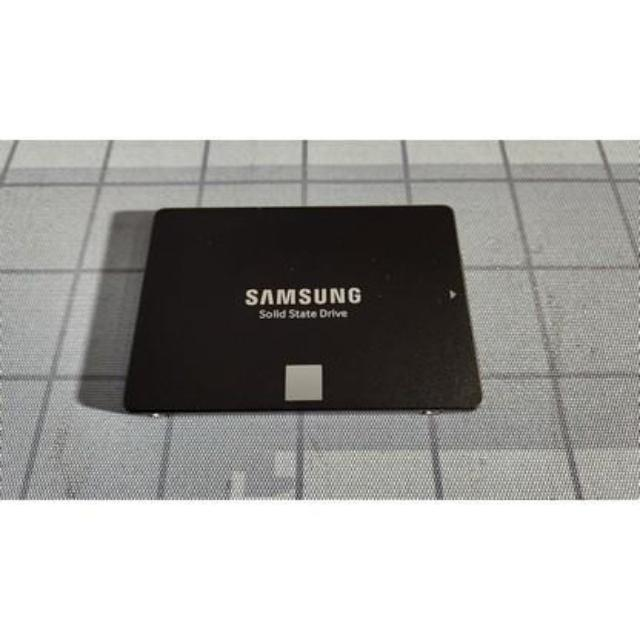DISK: (120, 203, 488, 428)
